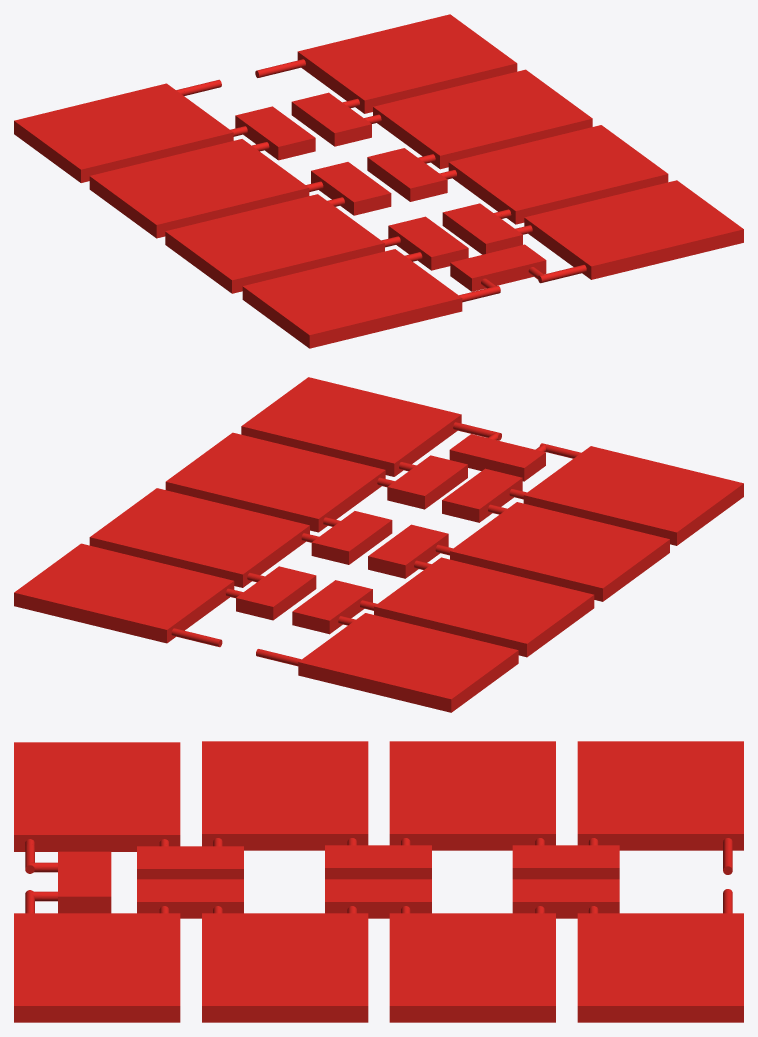
The model's file is nanofluids.glb.
The picture shows the model from 3 angles, top to bottom: view 1: azimuth 30°, elevation 25°; view 2: azimuth 150°, elevation 25°; view 3: azimuth 270°, elevation 25°; orthographic projection. The views are drawn at different scales.
Parts seen in each view (by area): view 1: Design 6; view 2: Design 6; view 3: Design 6.
Part boxes in pixels (x1,y1,x2,y2): Design 6: (14, 14, 743, 348); Design 6: (14, 377, 743, 712); Design 6: (14, 741, 743, 1022).
Bounding box in the file's own units: 1.37 × 0.0404 × 1.59.
